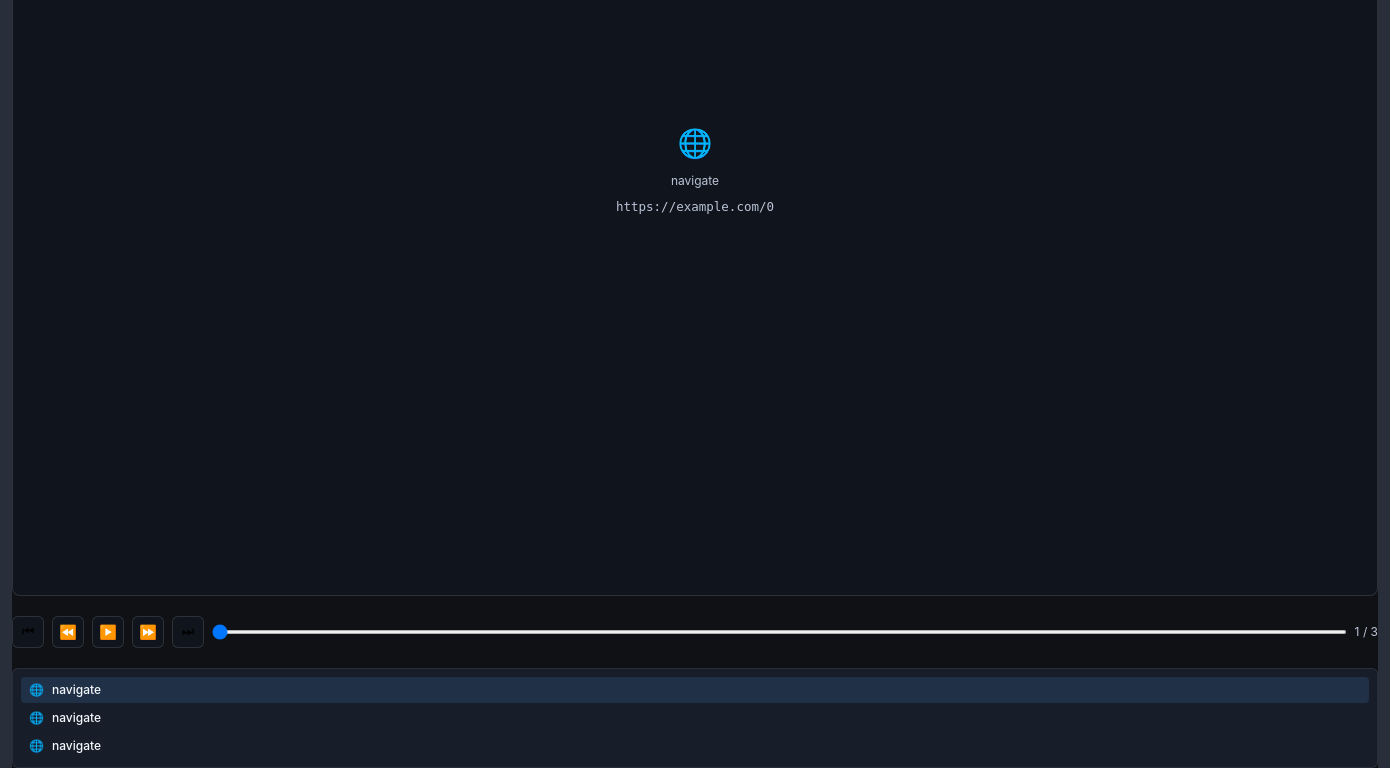
Scenario: BrowserViewer › advances playhead on next-frame click
(page scrolled)
Click the button named "Next frame" at coordinates (148, 632), box [132,616,164,648]
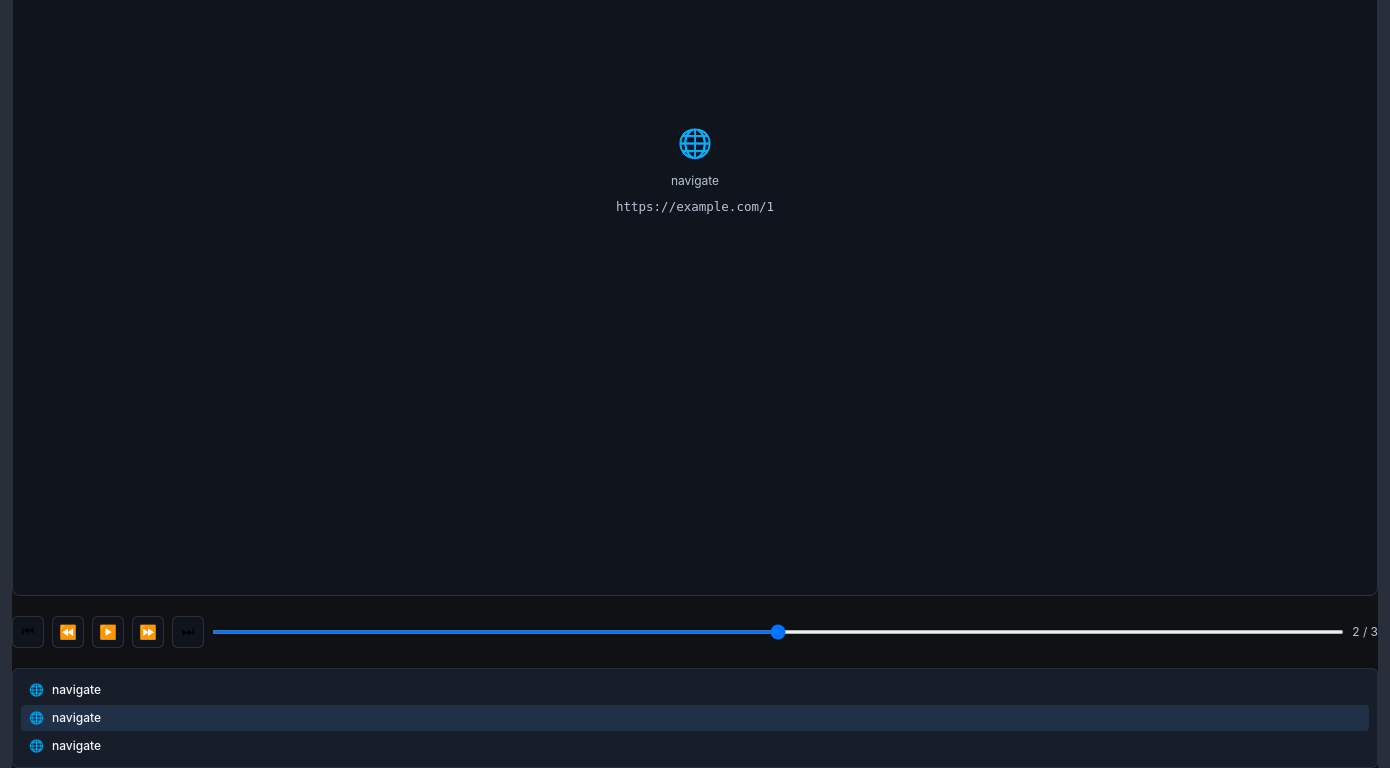
Expected: the text "2 / 3" is shown, [1352,623,1378,641]
